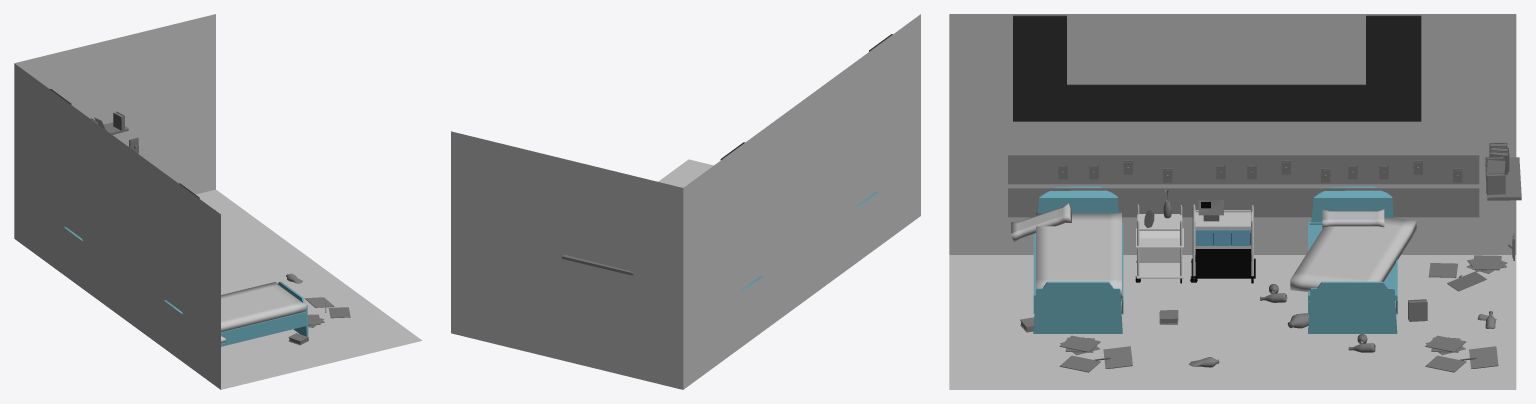
The model's file is Hospital 3 (1).fbx.
3 views of the same model, side by side, from view 1: azimuth 30°, elevation 25°; view 2: azimuth 150°, elevation 25°; view 3: azimuth 270°, elevation 25° (orthographic). The views are drawn at different scales.
Visible parts, largest first — view 1: Cube, Mesh, Mesh (7), Mesh (5); view 2: Cube; view 3: Cube, Mesh, Cube (2), Mesh (7), Toroid, Mesh (5), Mesh (10), Mesh (4), Mesh (2), Mesh (8).
Part boxes in pixels (bbox=[...]): Cube: bbox=[14, 14, 422, 389]; Mesh: bbox=[50, 89, 308, 346]; Mesh (7): bbox=[215, 209, 350, 327]; Mesh (5): bbox=[91, 111, 308, 345]; Cube: bbox=[451, 14, 920, 389]; Cube: bbox=[949, 14, 1516, 389]; Mesh: bbox=[1011, 15, 1421, 333]; Cube (2): bbox=[1008, 154, 1479, 217]; Mesh (7): bbox=[1059, 255, 1507, 372]; Toroid: bbox=[1135, 204, 1253, 283]; Mesh (5): bbox=[1020, 142, 1521, 332]; Mesh (10): bbox=[1058, 160, 1514, 260]; Mesh (4): bbox=[1260, 284, 1496, 352]; Mesh (2): bbox=[1198, 200, 1223, 221]; Mesh (8): bbox=[1188, 313, 1308, 367].
Size of the model in its own units: 1018 by 859 by 1804.
